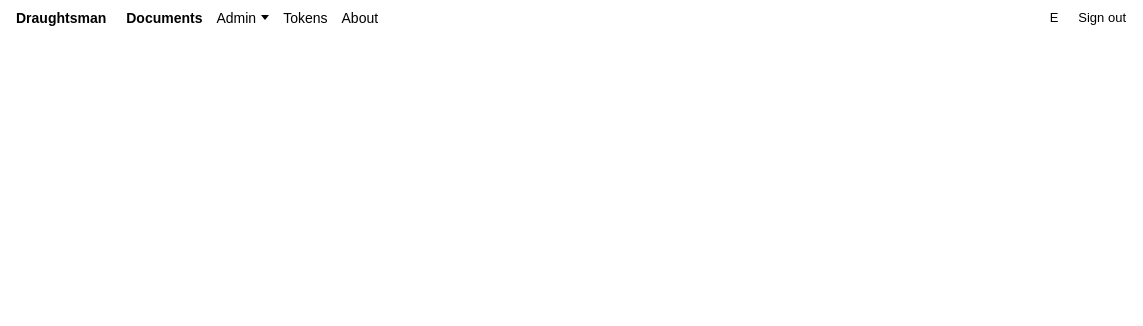
Scenario: AppShell Admin menu (QA P18) › closes on Escape and hands focus back to the button
Click the button "Admin" at x=243, y=18, box [216,10,269,26]
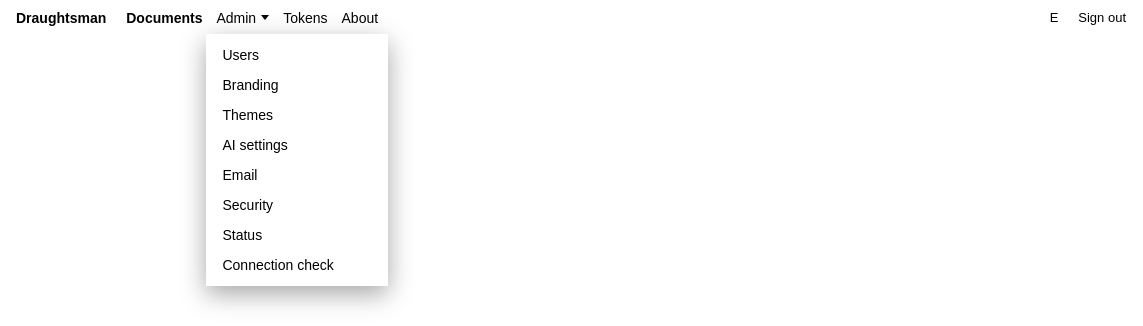
Press Escape in the link "Users", box [222,46,259,62]
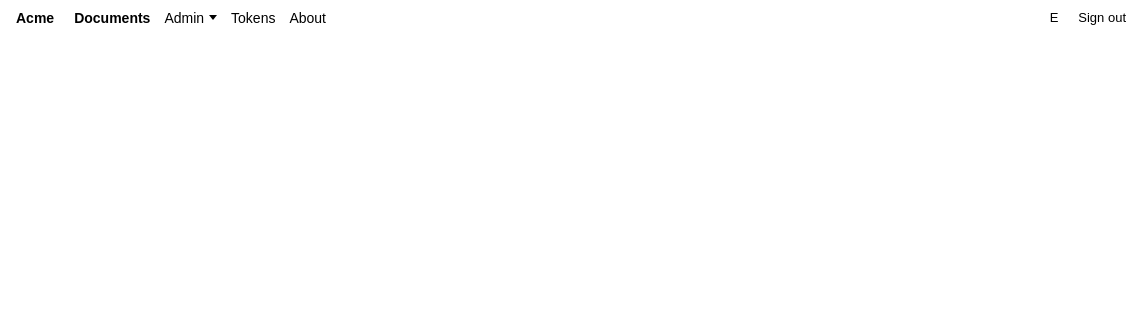
Result: the link "Users" is gone
